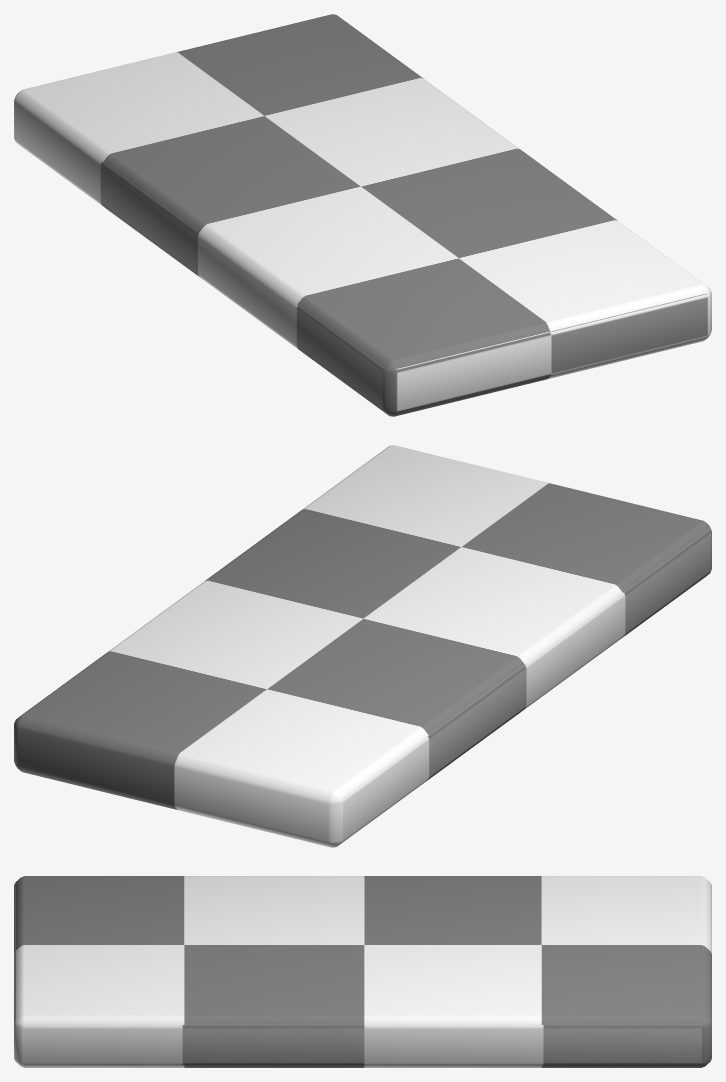
The model's file is TiledPlatformLong.fbx.
3 renders of one model, top to bottom at view 1: azimuth 30°, elevation 25°; view 2: azimuth 150°, elevation 25°; view 3: azimuth 270°, elevation 25°, orthographic. The views are drawn at different scales.
Parts seen in each view (by area): view 1: Cube; view 2: Cube; view 3: Cube.
Part boxes in pixels (x1,y1,x2,y2): Cube: (14,14,711,416); Cube: (14,445,711,847); Cube: (14,876,711,1067).
Size of the model in its own units: 6 by 1 by 12.
